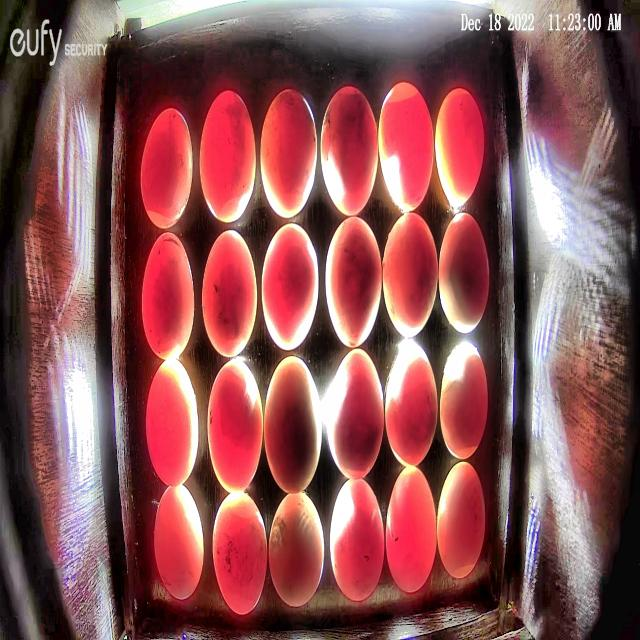FE: (198, 87, 256, 225), (264, 352, 321, 492), (320, 83, 378, 219), (259, 86, 318, 219), (206, 358, 263, 491), (200, 228, 257, 359), (326, 215, 382, 348), (381, 210, 439, 338), (262, 221, 319, 351), (380, 80, 435, 214), (329, 346, 384, 480), (383, 462, 438, 596), (144, 358, 200, 488), (140, 228, 194, 362), (137, 104, 194, 230), (212, 491, 268, 616), (328, 477, 384, 601), (268, 492, 326, 608), (386, 341, 438, 466), (153, 482, 205, 602), (434, 83, 484, 207), (438, 213, 489, 333), (440, 339, 488, 460), (437, 462, 485, 578)
